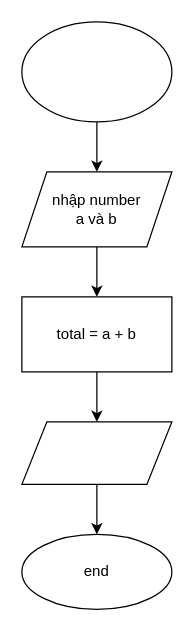
Some shapes in this 194 by 631 pixel diagram are drawn without their labels. The shapes that lost their labels are listed below. From the top down, each one's centre as x and y in pixels, then its label:
the point at 96,71: start
the point at 96,452: in total
